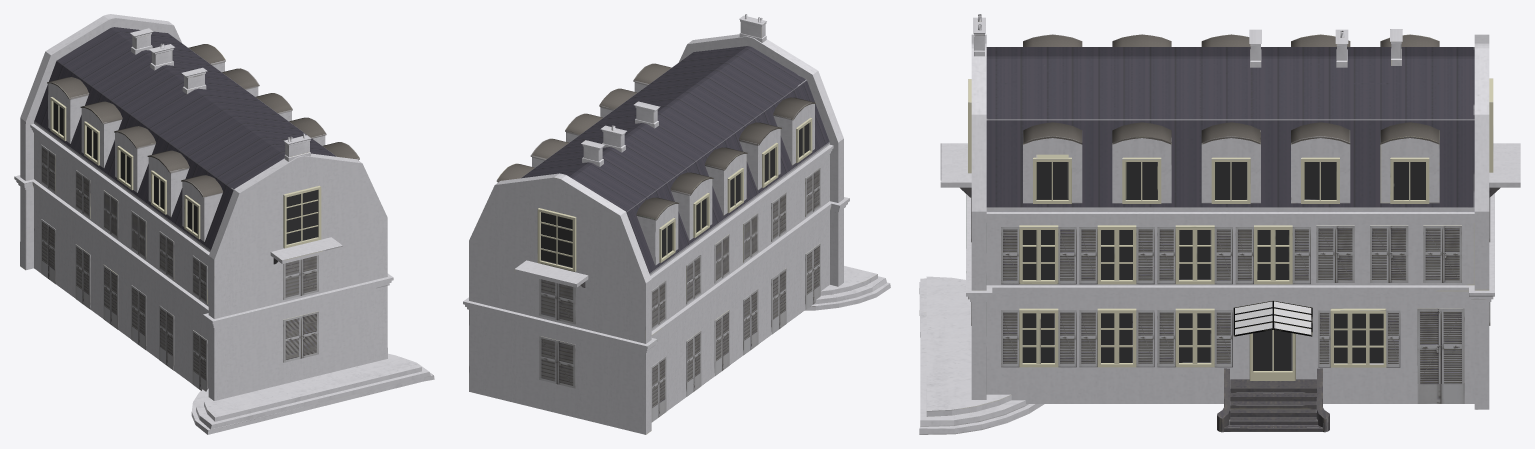
The model's file is French_House_Main.fbx.
The picture shows the model from 3 angles, left to right: view 1: azimuth 30°, elevation 25°; view 2: azimuth 150°, elevation 25°; view 3: azimuth 270°, elevation 25°; orthographic projection. The views are drawn at different scales.
Visible parts, largest first — view 1: French_House_Main; view 2: French_House_Main; view 3: French_House_Main.
Boxes of the visible parts, bbox=[...] form: French_House_Main: bbox=[14, 14, 434, 434]; French_House_Main: bbox=[463, 14, 890, 434]; French_House_Main: bbox=[919, 14, 1520, 434].
Bounding box in the file's own units: 2458 × 2525 × 4038.
1 material, 1 textured.
